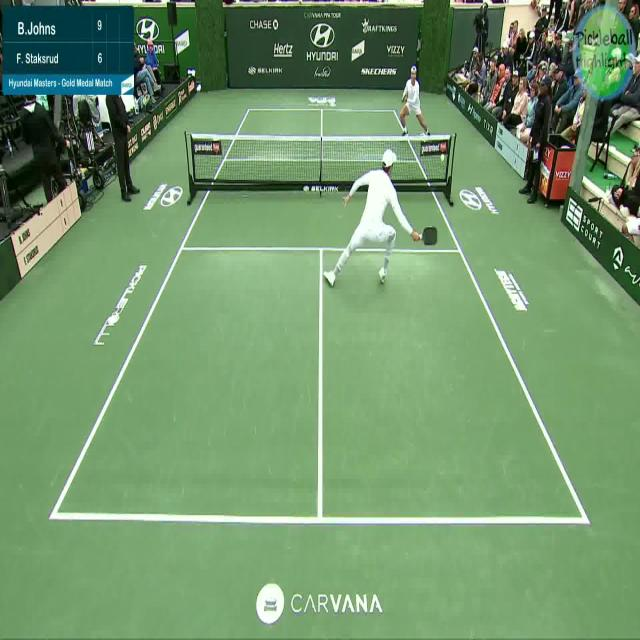ball: (440, 153, 445, 163)
